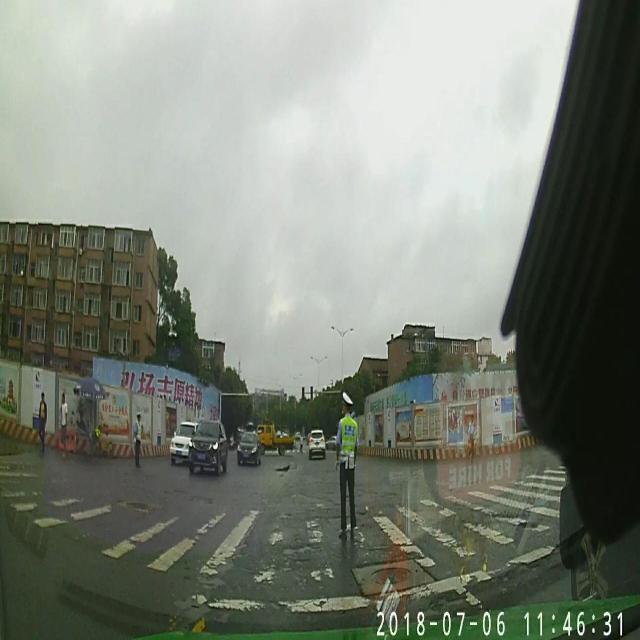car: (194, 422, 228, 469), (170, 422, 196, 464), (238, 432, 260, 462), (310, 430, 326, 458)
